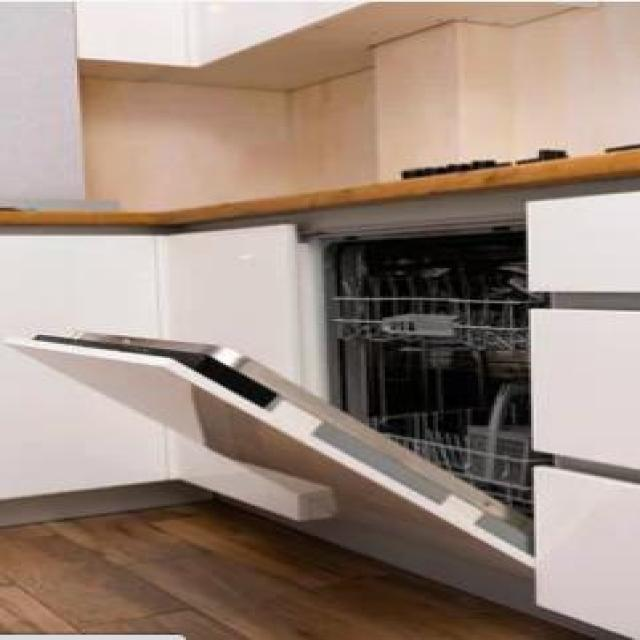dishwasher: (0, 192, 552, 588)
